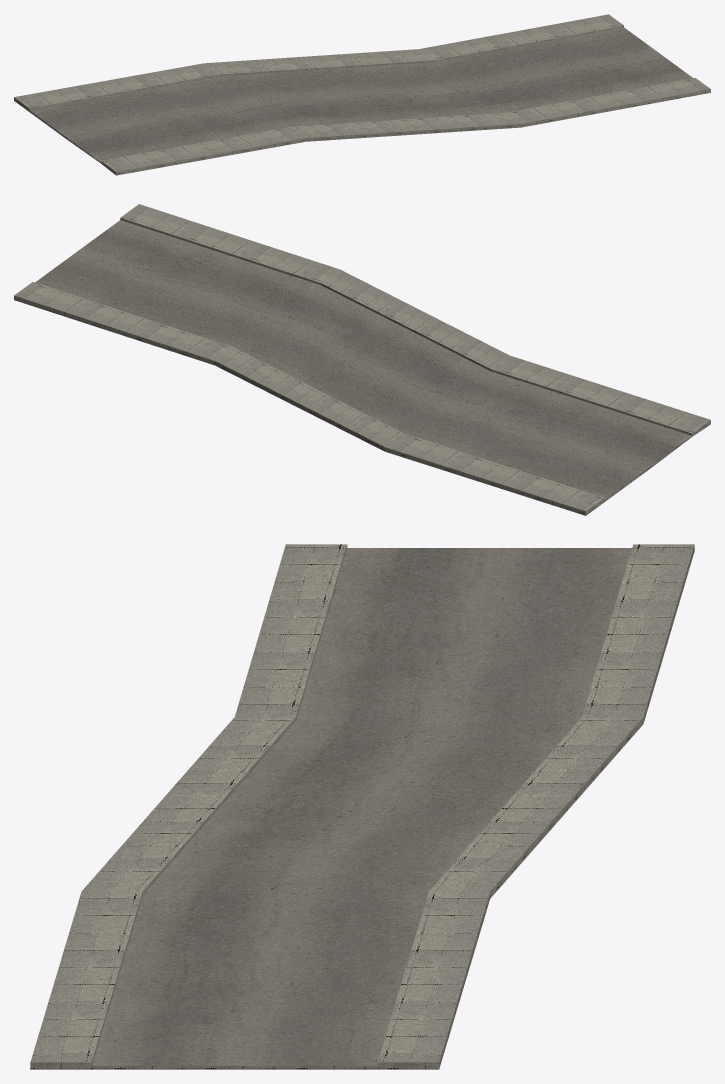
The model's file is road_3_sheer.glb.
3 views of the same model, one above another, from view 1: azimuth 30°, elevation 25°; view 2: azimuth 150°, elevation 25°; view 3: azimuth 270°, elevation 25° (orthographic). The views are drawn at different scales.
Parts seen in each view (by area): view 1: road_3_sheer; view 2: road_3_sheer; view 3: road_3_sheer.
Boxes of the visible parts, box(x1,y1,x2,y2) form: road_3_sheer: box(14, 14, 710, 175); road_3_sheer: box(14, 204, 710, 515); road_3_sheer: box(30, 544, 694, 1069).
Bounding box in the file's own units: 48 × 0.4 × 26.
Materials: 2 (2 with a texture image).
